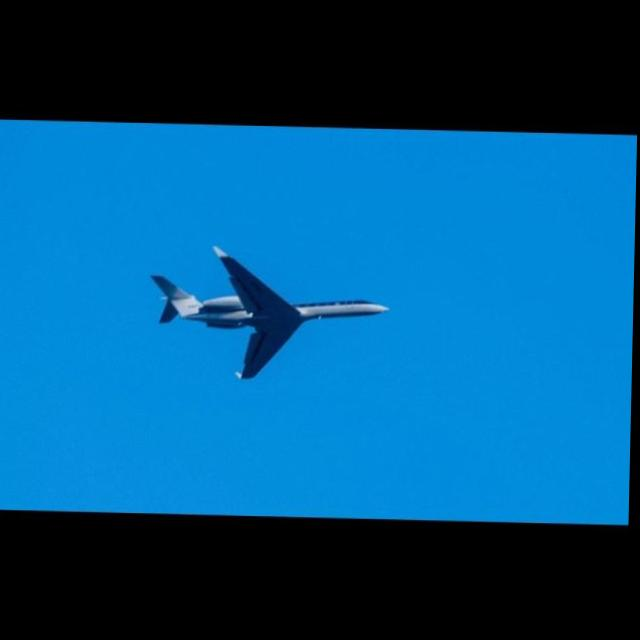airplane: (149, 239, 394, 386)
